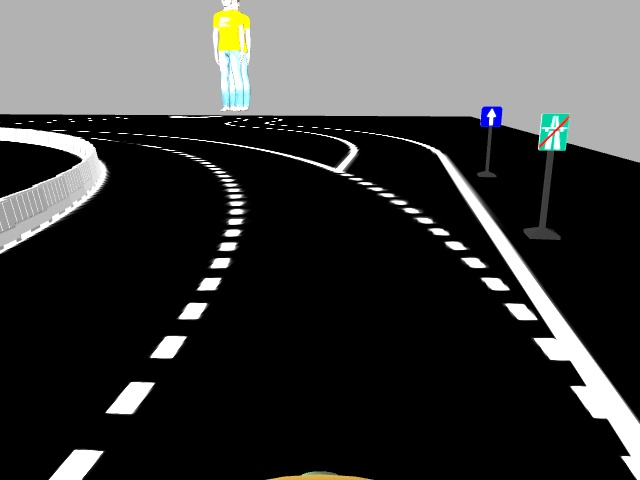HighwayExit: (540, 112, 567, 149)
OneWay: (480, 105, 501, 127)
